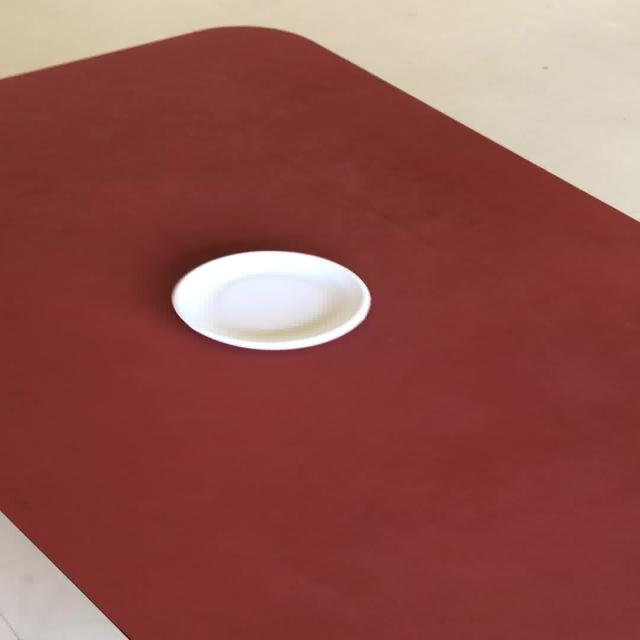plate: (169, 248, 371, 350)
